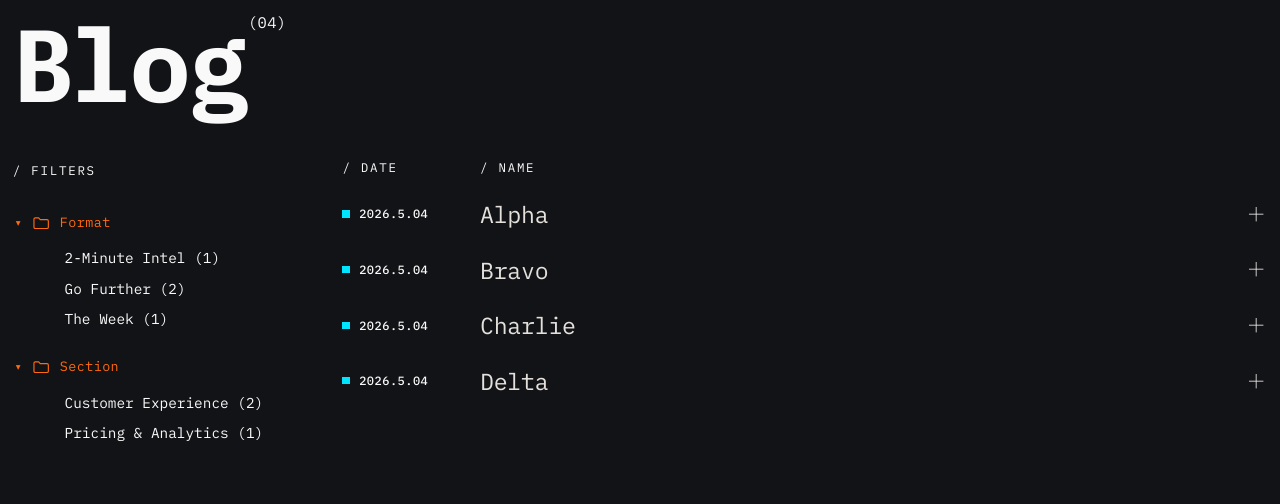
NewsIndex › shows all rows by default and intersects filters across groups
expect the text "Alpha" is shown: met, box x1=480 y1=199 x2=548 y2=229
expect the text "Bravo" is shown: met, box x1=480 y1=255 x2=548 y2=285
# format filter: Deep Dive only
Click the button "Go Further (2)".
click(167, 288)  # box x1=39 y1=273 x2=295 y2=304
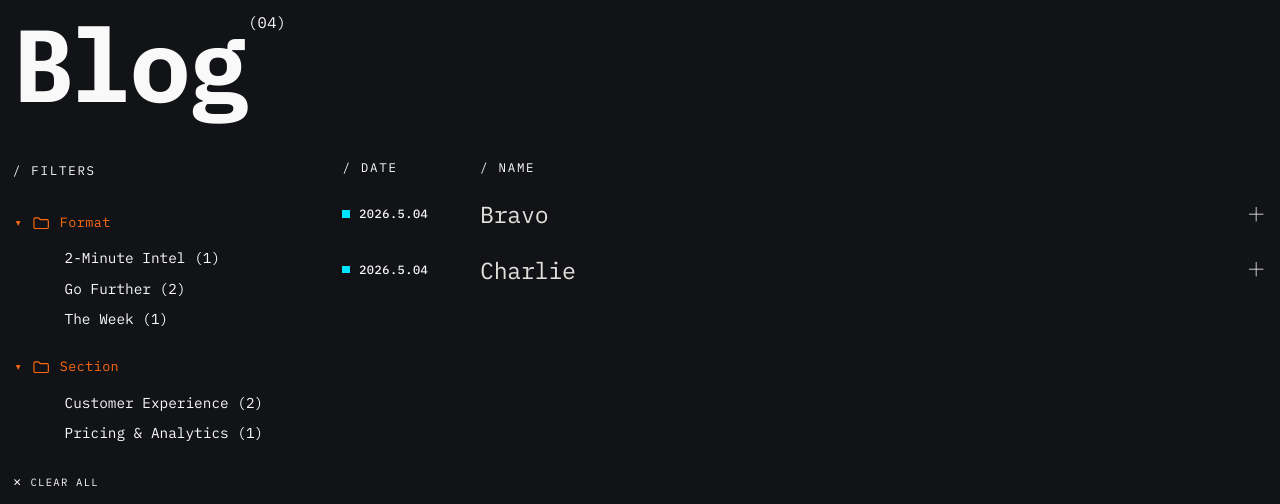
expect the text "Bravo" is shown: met, box x1=480 y1=199 x2=548 y2=229
expect the button "Alpha" is gone: met
expect the button "Delta" is gone: met
# AND a section: Deep Dive ∩ Customer Experience
Click the button "Customer Experience (2)".
click(167, 402)  # box x1=39 y1=387 x2=295 y2=417
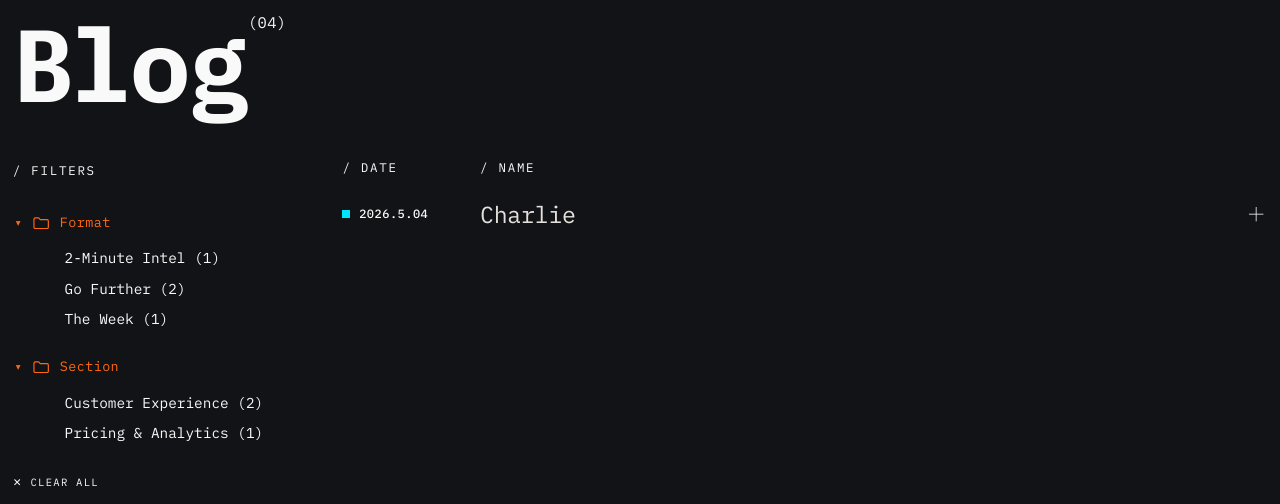
expect the text "Charlie" is shown: met, box x1=480 y1=199 x2=576 y2=229
expect the button "Bravo" is gone: met
